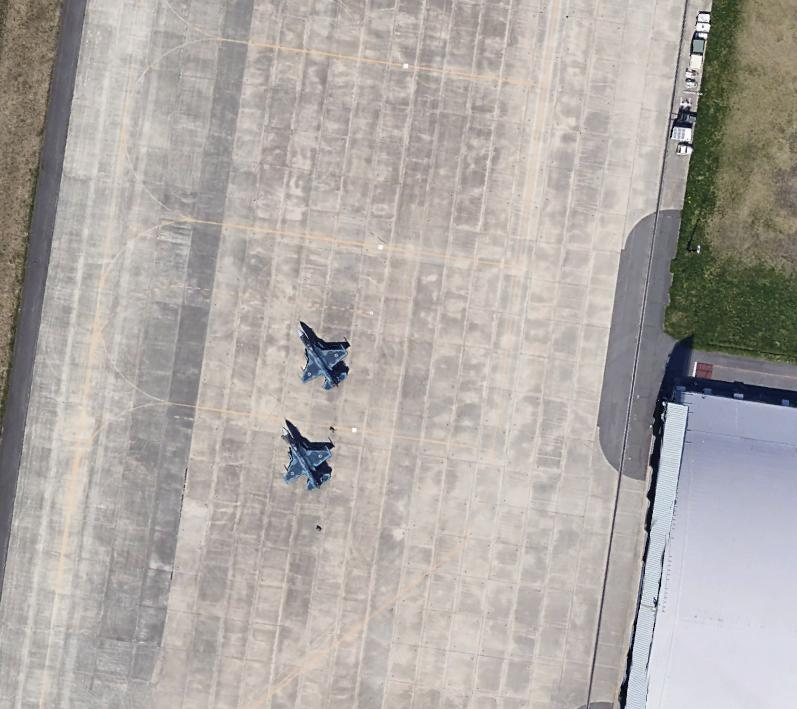A5: (291, 318, 353, 395), (276, 419, 334, 494)
